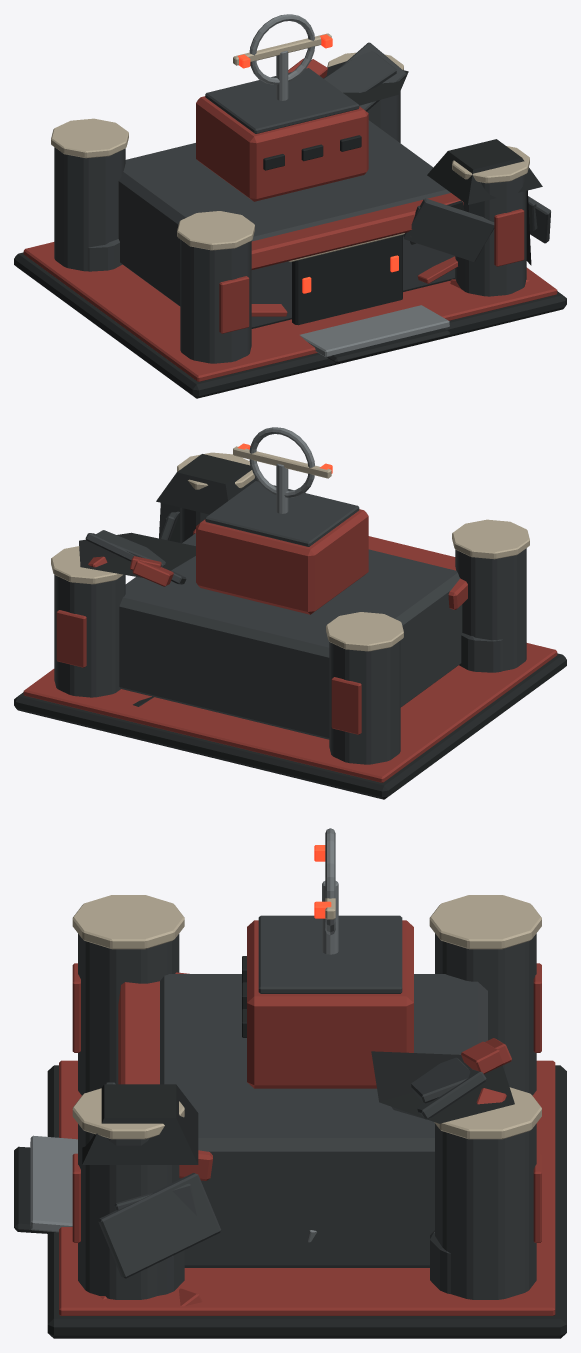
The picture shows the model from 3 angles, top to bottom: view 1: azimuth 30°, elevation 25°; view 2: azimuth 150°, elevation 25°; view 3: azimuth 270°, elevation 25°; orthographic projection. The views are drawn at different scales.
Visible parts, largest first — view 1: FF_EN_HQ_01_M_EnemyObsidianArmor_runtime, FF_EN_HQ_01_M_EnemyCrimsonArmor_runtime, FF_EN_HQ_01_M_EnemyRecess_runtime, FF_EN_HQ_01_M_EnemyMarking_runtime, damage_critical_bent_armor, damage_critical_collapse, FF_EN_HQ_01_M_EnemyGunmetal_runtime, damage_damaged_bent_armor, radar_yaw_M_EnemyGunmetal_runtime, ruin_foundation, ruin_faction_debris, ruin_collapsed_structure (+1 smaller); view 2: FF_EN_HQ_01_M_EnemyObsidianArmor_runtime, FF_EN_HQ_01_M_EnemyCrimsonArmor_runtime, FF_EN_HQ_01_M_EnemyRecess_runtime, FF_EN_HQ_01_M_EnemyMarking_runtime, damage_critical_collapse, radar_yaw_M_EnemyGunmetal_runtime, ruin_collapsed_structure, radar_yaw_M_EnemyMarking_runtime, damage_critical_bent_armor, damage_damaged_bent_armor, damage_critical_debris; view 3: FF_EN_HQ_01_M_EnemyObsidianArmor_runtime, FF_EN_HQ_01_M_EnemyCrimsonArmor_runtime, FF_EN_HQ_01_M_EnemyRecess_runtime, FF_EN_HQ_01_M_EnemyMarking_runtime, damage_critical_collapse, damage_critical_bent_armor, FF_EN_HQ_01_M_EnemyGunmetal_runtime, damage_damaged_bent_armor, ruin_collapsed_structure, radar_yaw_M_EnemyGunmetal_runtime, ruin_foundation, damage_critical_debris (+1 smaller).
Part boxes in pixels (x1,y1,x2,y2): FF_EN_HQ_01_M_EnemyObsidianArmor_runtime: (54,68,526,363); FF_EN_HQ_01_M_EnemyCrimsonArmor_runtime: (23,96,557,381); FF_EN_HQ_01_M_EnemyRecess_runtime: (14,135,566,398); FF_EN_HQ_01_M_EnemyMarking_runtime: (51,52,529,262); damage_critical_bent_armor: (339,42,550,261); damage_critical_collapse: (323,61,542,265); FF_EN_HQ_01_M_EnemyGunmetal_runtime: (300,305,449,357); damage_damaged_bent_armor: (324,51,537,237); radar_yaw_M_EnemyGunmetal_runtime: (249,14,314,100); ruin_foundation: (327,328,450,363); ruin_faction_debris: (251,256,457,316); ruin_collapsed_structure: (87,239,456,280); FF_EN_HQ_01_M_EnemyObsidianArmor_runtime: (54,481,526,764); FF_EN_HQ_01_M_EnemyCrimsonArmor_runtime: (23,509,557,782); FF_EN_HQ_01_M_EnemyRecess_runtime: (14,653,566,799); FF_EN_HQ_01_M_EnemyMarking_runtime: (51,452,529,651); damage_critical_collapse: (79,454,258,577); radar_yaw_M_EnemyGunmetal_runtime: (249,427,314,513); ruin_collapsed_structure: (459,633,503,672); radar_yaw_M_EnemyMarking_runtime: (233,446,331,478); damage_critical_bent_armor: (85,512,186,584); damage_damaged_bent_armor: (95,511,179,567); damage_critical_debris: (88,556,173,586); FF_EN_HQ_01_M_EnemyObsidianArmor_runtime: (78,915,536,1299); FF_EN_HQ_01_M_EnemyCrimsonArmor_runtime: (59,920,555,1315); FF_EN_HQ_01_M_EnemyRecess_runtime: (47,956,566,1338); FF_EN_HQ_01_M_EnemyMarking_runtime: (72,895,541,1139); damage_critical_collapse: (82,1051,514,1164); damage_critical_bent_armor: (98,1068,486,1278); FF_EN_HQ_01_M_EnemyGunmetal_runtime: (30,1135,77,1232); damage_damaged_bent_armor: (114,1057,470,1215); ruin_collapsed_structure: (157,1230,450,1295); radar_yaw_M_EnemyGunmetal_runtime: (322,828,338,954); ruin_foundation: (14,1146,55,1233); damage_critical_debris: (100,1038,511,1306).
Size of the model in its own units: 13.47 by 9.11 by 11.92.
